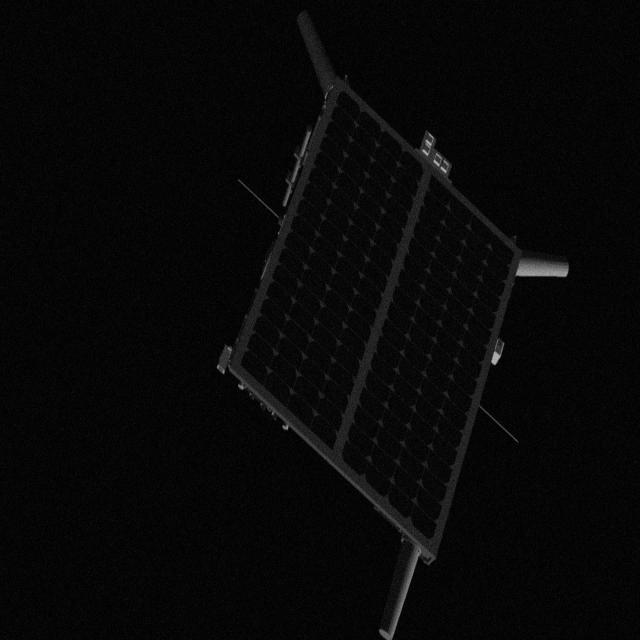medium_debris: (210, 14, 584, 638)
